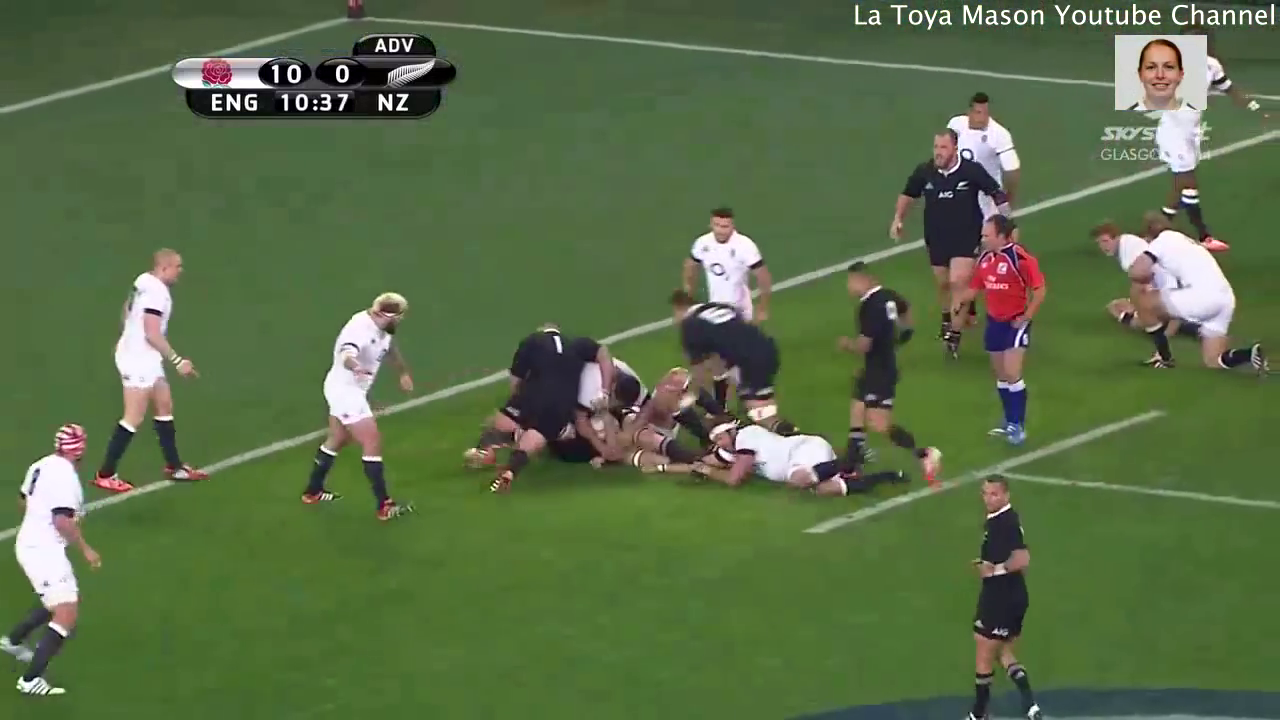player: (297, 285, 421, 536), (1, 416, 105, 709), (97, 248, 218, 499), (1133, 207, 1277, 394), (831, 255, 943, 492), (464, 320, 597, 515), (887, 133, 993, 360), (956, 472, 1047, 720), (960, 211, 1046, 447), (701, 412, 897, 502), (659, 288, 785, 418), (676, 210, 777, 323), (940, 98, 1033, 182), (563, 355, 643, 412)
ruck: (502, 336, 857, 500)
